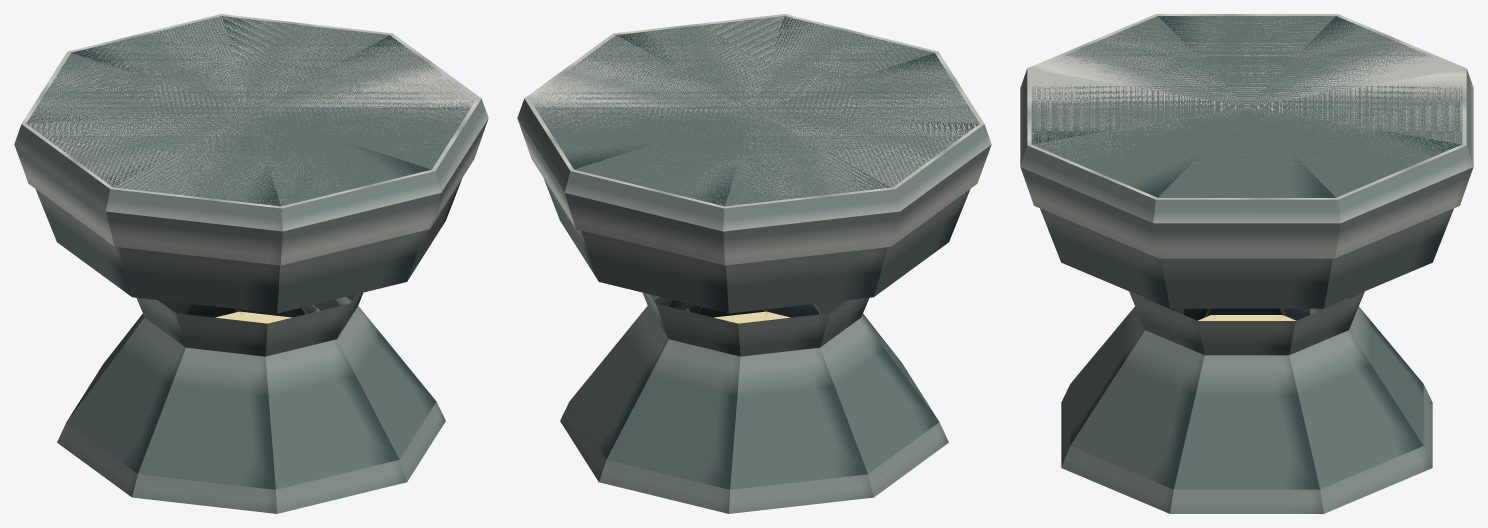
File: rocket_engine.obj
The picture shows the model from 3 angles, left to right: view 1: azimuth 30°, elevation 25°; view 2: azimuth 150°, elevation 25°; view 3: azimuth 270°, elevation 25°; orthographic projection. The views are drawn at different scales.
Parts seen in each view (by area): view 1: Engine, Nozzle; view 2: Engine, Nozzle; view 3: Engine, Nozzle, Glow.
Part boxes in pixels (box(x1,y1,x2,y2)): Engine: box(14, 14, 488, 313); Nozzle: box(57, 292, 445, 513); Engine: box(517, 14, 991, 313); Nozzle: box(560, 292, 948, 513); Engine: box(1020, 14, 1473, 308); Nozzle: box(1061, 291, 1432, 513); Glow: box(1198, 315, 1295, 320).
Size of the model in its own units: 1.25 by 1 by 1.25.
